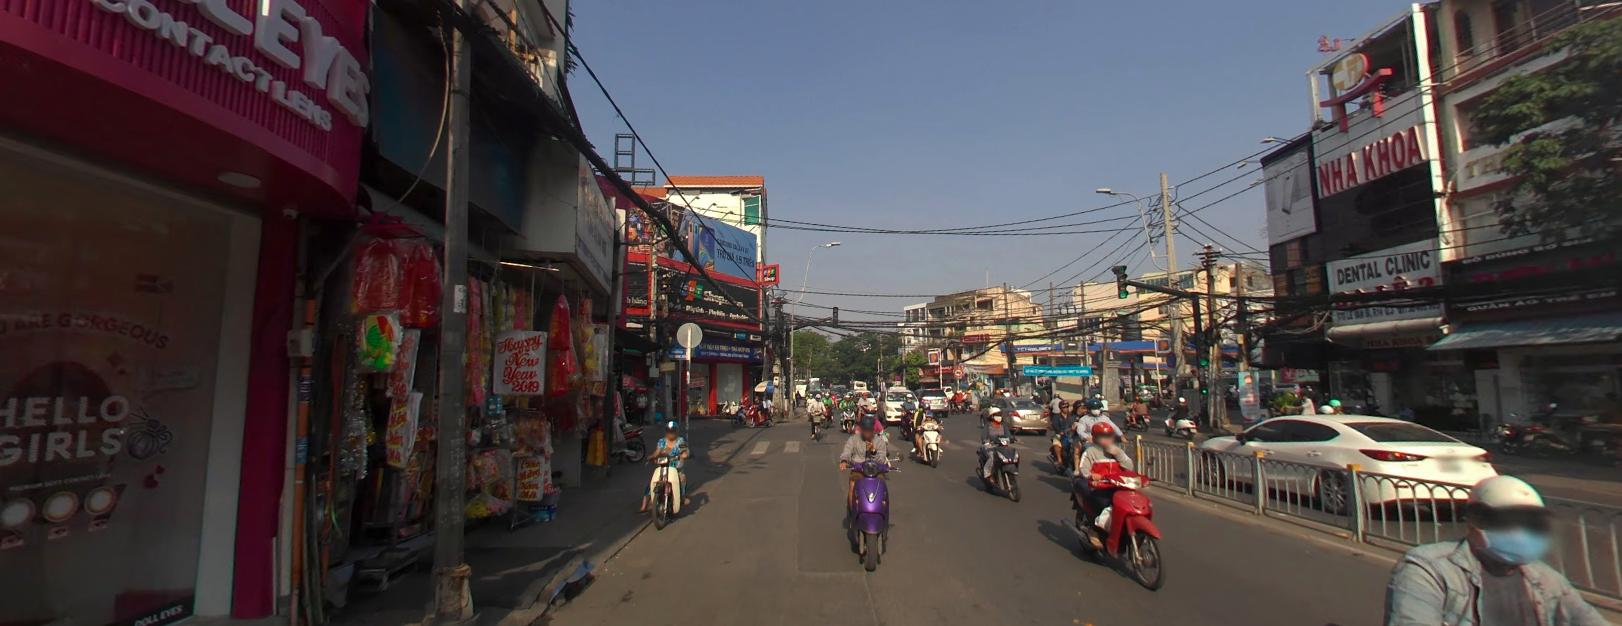Cam con lai: (953, 367, 961, 374)
Cam dung va do: (1165, 350, 1176, 364), (894, 372, 899, 378)
